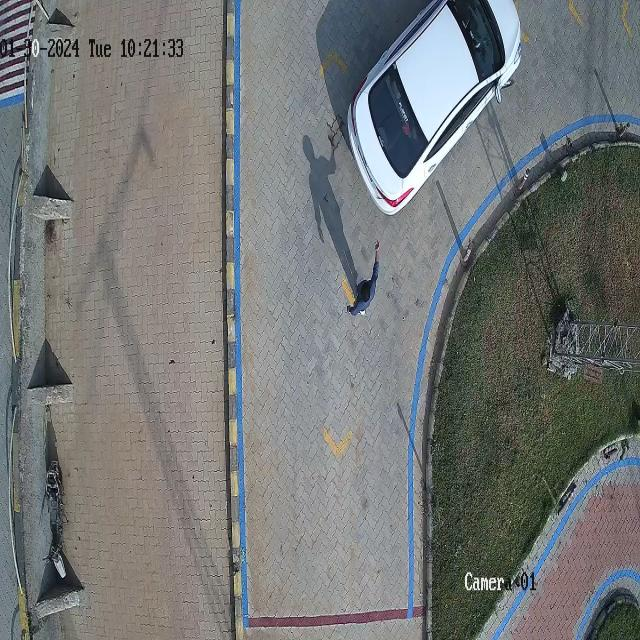car: (348, 0, 522, 214)
